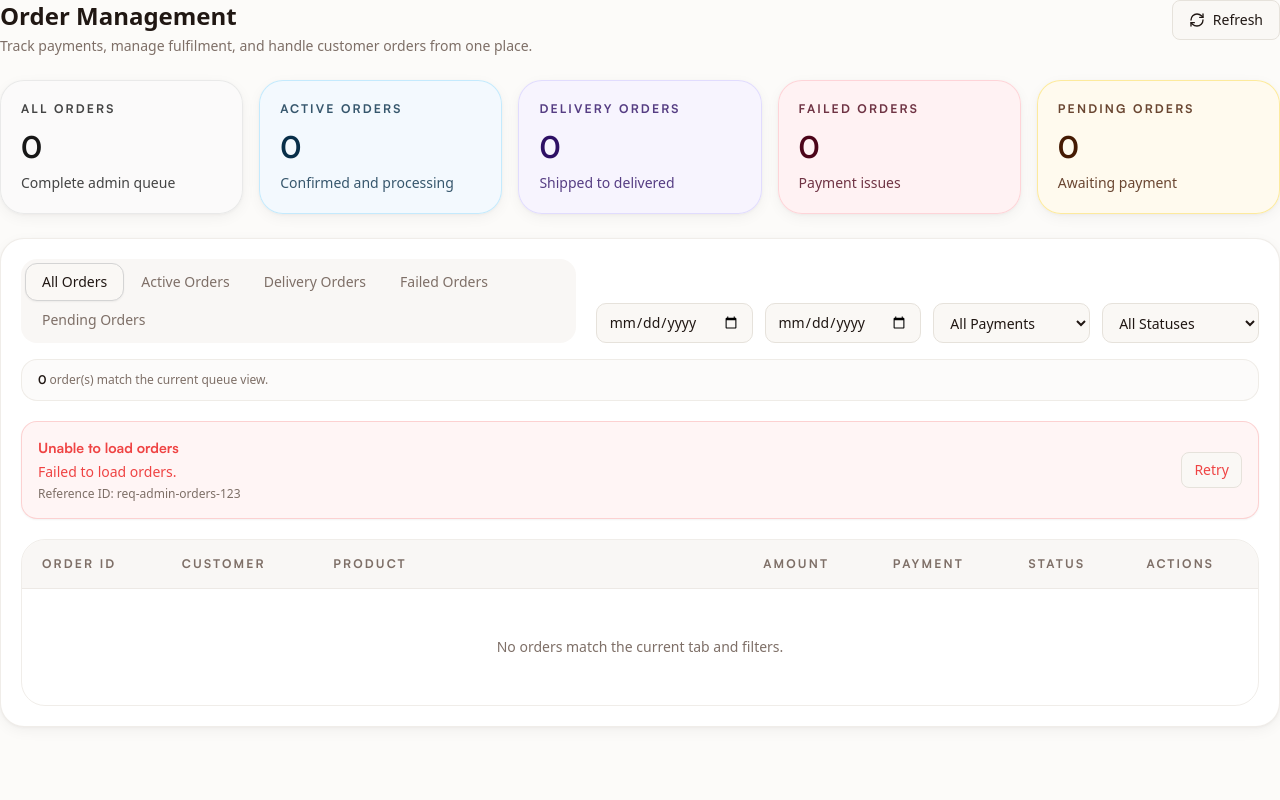
AdminOrders › pauses background polling after a failed load and resumes after a successful retry
The image size is (1280, 800).
expect the text "Unable to load orders" is shown: met, box [38, 439, 179, 456]
expect the text "Reference ID: req-admin-orders-123" is shown: met, box [38, 486, 241, 502]
What coordinates should you click on to do the following:
click the button "Retry"
I would click on:
 (1212, 470)
Its box is [1181, 452, 1242, 488].
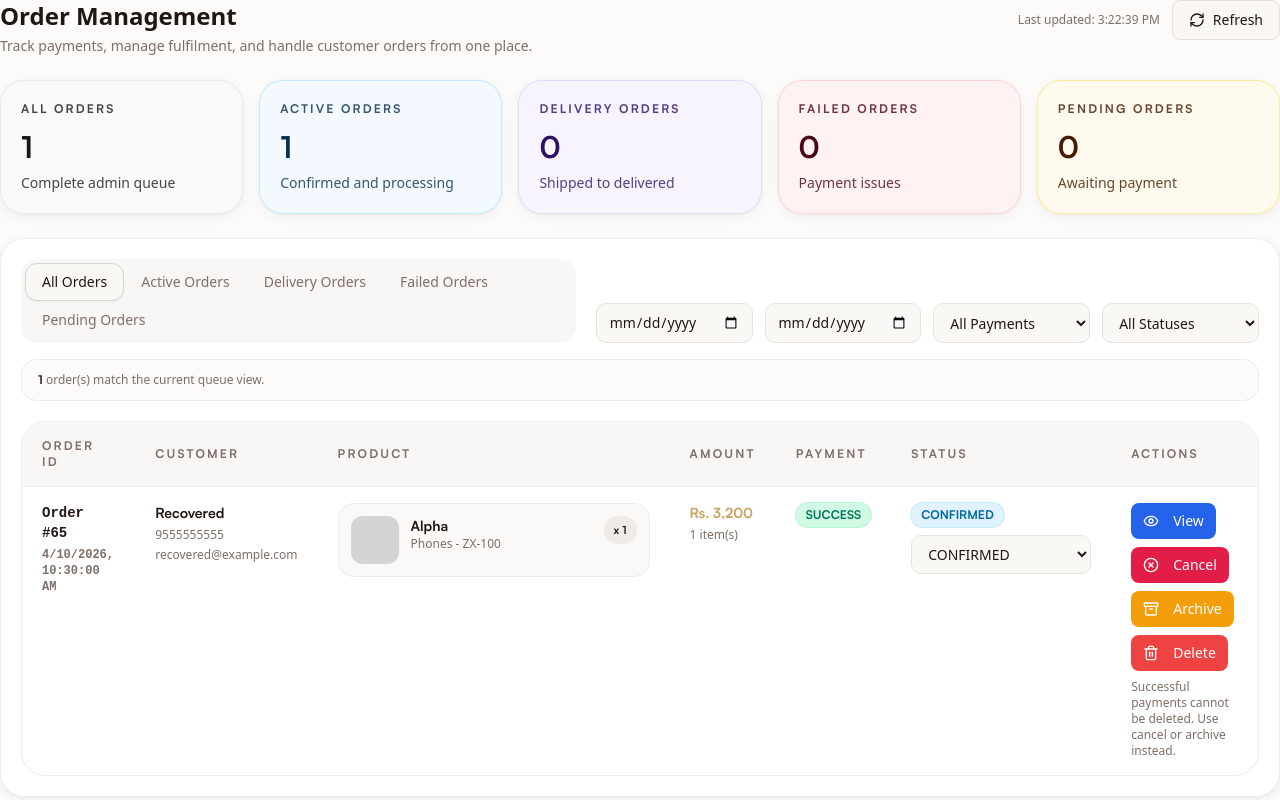
expect the text "Order #65" is shown: met, box [42, 505, 84, 541]
